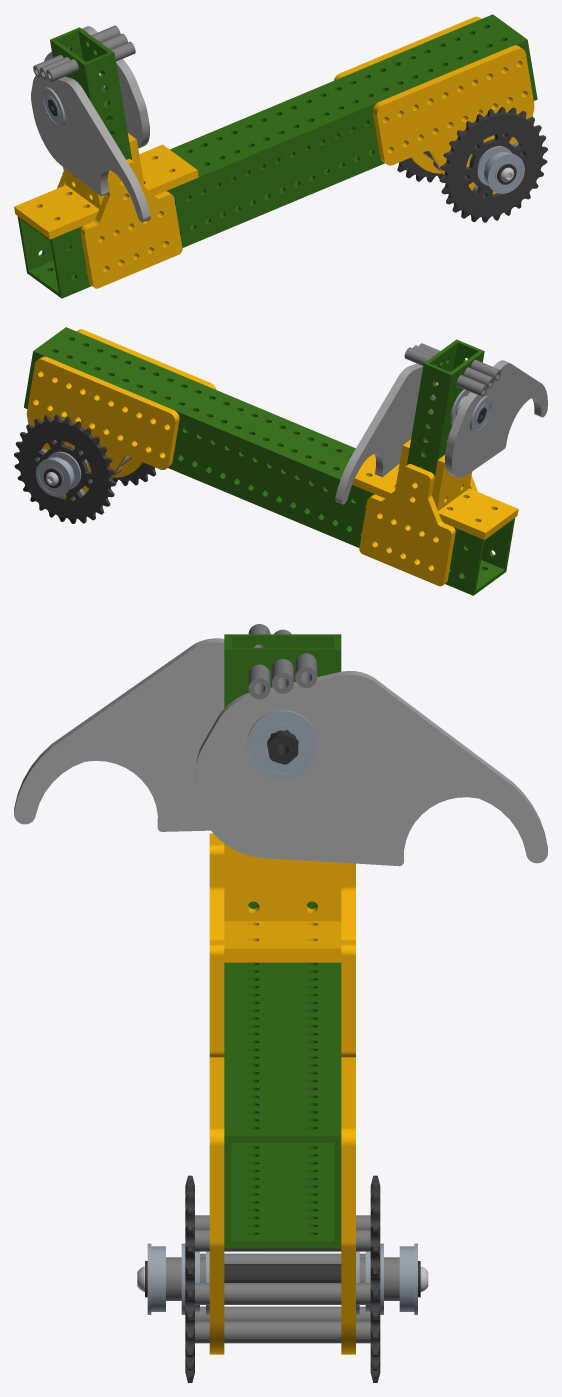
3 renders of one model, top to bottom at view 1: azimuth 30°, elevation 25°; view 2: azimuth 150°, elevation 25°; view 3: azimuth 270°, elevation 25°, orthographic. The views are drawn at different scales.
Parts seen in each view (by area): view 1: Climb Tube, Climb to Mount Gusset (×2), Part 2 (×2), 28t Bearing Bore Plate 35 Chain Sprocket (217-2653) (×2), Baterang - Climb Gusset, Baterang Mount L-Brackets (×2), Baterang Tube, .5" Round ID 1.125" OD Flanged Bearing (217-2731) (×2), .5" Hex ID 1.125" OD Flanged Bearing (217-2734), 2nd Stage Motor Plate Big Spacers; view 2: Climb Tube, Climb to Mount Gusset (×2), Part 2 (×2), Baterang - Climb Gusset, 28t Bearing Bore Plate 35 Chain Sprocket (217-2653) (×2), Baterang Mount L-Brackets (×2), Baterang Tube, .5" Round ID 1.125" OD Flanged Bearing (217-2731) (×2), 2nd Stage Motor Plate Big Spacers (×2), .5" Hex ID 1.125" OD Flanged Bearing (217-2734); view 3: Part 2 (×2), Climb Tube, Baterang Mount L-Brackets, Climb to Mount Gusset (×2), Climb to Mount Big Spacer (×4), Baterang - Climb Gusset (×2), Baterang Tube, 28t Bearing Bore Plate 35 Chain Sprocket (217-2653) (×2), .5" Hex ID 1.125" OD Flanged Bearing (217-2734), Shaft, .5" Round ID 1.125" OD Flanged Bearing (217-2731) (×2), Spacer for Big Climb Sprocket.
Part boxes in pixels (<box>): Climb Tube: <box>17,14,537,298</box>; Climb to Mount Gusset (×2): <box>334,16,534,194</box>; Part 2 (×2): <box>31,26,150,222</box>; 28t Bearing Bore Plate 35 Chain Sprocket (217-2653) (×2): <box>397,107,547,222</box>; Baterang - Climb Gusset: <box>80,159,182,288</box>; Baterang Mount L-Brackets (×2): <box>14,133,198,239</box>; Baterang Tube: <box>50,27,132,159</box>; .5" Round ID 1.125" OD Flanged Bearing (217-2731) (×2): <box>477,146,524,193</box>; .5" Hex ID 1.125" OD Flanged Bearing (217-2734): <box>41,87,65,127</box>; 2nd Stage Motor Plate Big Spacers: <box>46,59,78,81</box>; Climb Tube: <box>24,327,514,595</box>; Climb to Mount Gusset (×2): <box>26,329,216,497</box>; Part 2 (×2): <box>335,360,547,504</box>; Baterang - Climb Gusset: <box>359,464,455,586</box>; 28t Bearing Bore Plate 35 Chain Sprocket (217-2653) (×2): <box>14,414,156,523</box>; Baterang Mount L-Brackets (×2): <box>352,439,518,539</box>; Baterang Tube: <box>407,339,484,476</box>; .5" Round ID 1.125" OD Flanged Bearing (217-2731) (×2): <box>35,451,81,496</box>; 2nd Stage Motor Plate Big Spacers (×2): <box>456,367,494,396</box>; .5" Hex ID 1.125" OD Flanged Bearing (217-2734): <box>470,396,492,434</box>; Part 2 (×2): <box>14,638,547,866</box>; Climb Tube: <box>224,962,341,1248</box>; Baterang Mount L-Brackets: <box>224,843,341,962</box>; Climb to Mount Gusset (×2): <box>209,1057,355,1354</box>; Climb to Mount Big Spacer (×4): <box>224,1253,341,1343</box>; Baterang - Climb Gusset (×2): <box>209,833,355,1057</box>; Baterang Tube: <box>224,634,341,908</box>; 28t Bearing Bore Plate 35 Chain Sprocket (217-2653) (×2): <box>185,1175,380,1382</box>; .5" Hex ID 1.125" OD Flanged Bearing (217-2734): <box>247,710,318,779</box>; Shaft: <box>137,1261,428,1297</box>; .5" Round ID 1.125" OD Flanged Bearing (217-2731) (×2): <box>147,1243,417,1314</box>; Spacer for Big Climb Sprocket: <box>359,1257,399,1300</box>.
Bounding box in the file's own units: 0.4118 × 0.2039 × 0.232.
